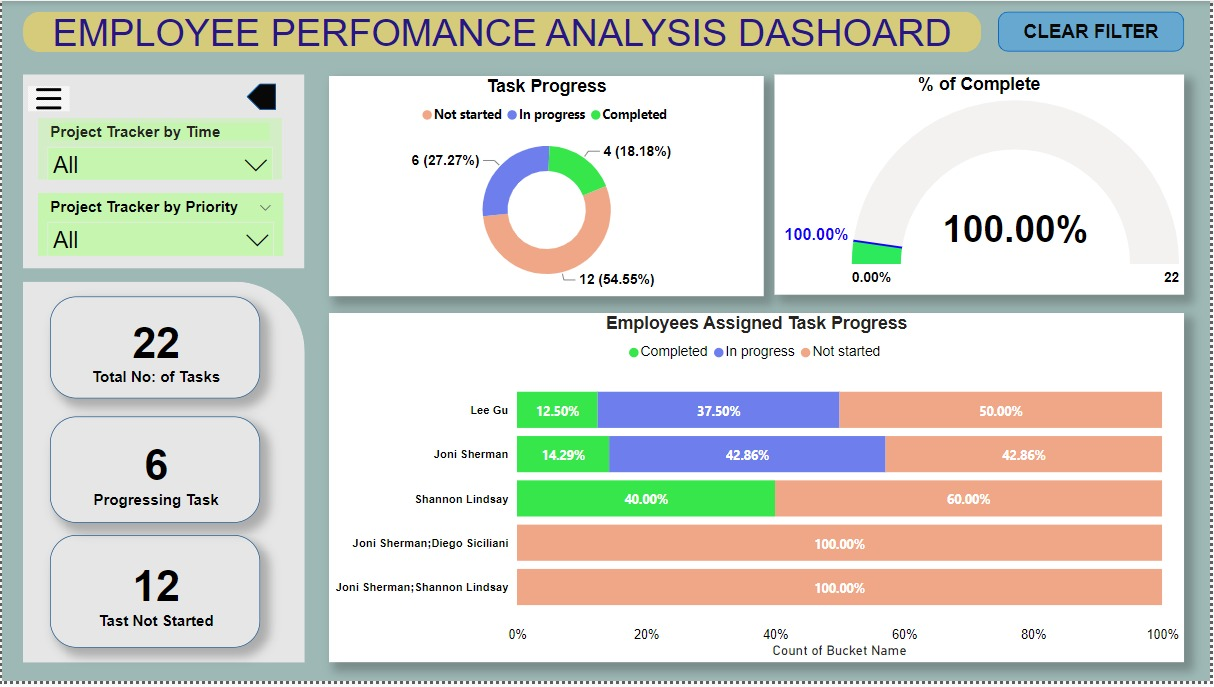

The page's visual inventory and layout, read from the dashboard file:
{"tool":"powerbi","page":{"name":"Page 1","canvas":[1280,720],"ordinal":0},"visuals":[{"type":"textbox","box":[22.3,81.1,298.8,205],"z":0,"group":"g1"},{"type":"shape","box":[22.3,11.1,1014,42.9],"z":1000},{"type":"donutChart","title":"Task Progress","fields":{"Category":["Tasks.Progress"],"Y":["CountNonNull(Tasks.Progress)"]},"box":[346.5,79.5,460.9,233.6],"z":2000},{"type":"hundredPercentStackedBarChart","title":"Employees Assigned Task Progress ","fields":{"Category":["Tasks.Assigned To"],"Y":["CountNonNull(Tasks.Bucket Name)"],"Series":["Tasks.Progress"]},"box":[346.5,330.6,906,370.3],"z":3000},{"type":"shape","box":[22.3,297.2,298.8,403.7],"z":4000},{"type":"card","title":"Task Progress","fields":{"Values":["Tasks.Total No: of Tasks"]},"box":[50.9,313.1,222.5,108.1],"z":5000},{"type":"card","title":"Task Progress","fields":{"Values":["Tasks.Progressing Task"]},"box":[50.9,440.3,222.5,112.8],"z":6000},{"type":"card","title":"Task Progress","fields":{"Values":["Tasks.Completed_task"]},"box":[50.9,565.8,222.5,119.2],"z":7000},{"type":"gauge","title":"% of Complete","fields":{"Y":["Tasks.Task Completed"],"MaxValue":["Tasks.Total No: of Tasks"],"TargetValue":["Tasks.Task Completed"]},"box":[818.5,77.9,433.9,233.6],"z":8000},{"type":"slicer","fields":{"Values":["Tasks.date.Variation.Date Hierarchy.Year","Tasks.date.Variation.Date Hierarchy.Month"]},"box":[37.8,127.1,259.1,65.2],"z":9000,"group":"g1"},{"type":"slicer","fields":{"Values":["Priority.Priority"]},"box":[37.8,205.9,260.7,66.8],"z":10000,"group":"g1"},{"type":"shape","box":[1055.4,11.1,197.1,42.9],"z":11000},{"type":"shape","box":[38.2,81.1,52.5,46.1],"z":11002,"group":"g1"},{"type":"group","id":"g1","title":"Group 1","box":[22.3,81.1,298.8,205],"z":11003}]}

Visuals, with their boxes in screenshot pixels (x1, y1, x2, y2), scaled from the page's 1280x720 canvas onto the 1214x687 screenshot:
textbox: <box>21,77,305,273</box>
shape: <box>21,11,983,52</box>
"Task Progress" donutChart: <box>329,76,766,299</box>
"Employees Assigned Task Progress " hundredPercentStackedBarChart: <box>329,315,1188,669</box>
shape: <box>21,284,305,669</box>
"Task Progress" card: <box>48,299,259,402</box>
"Task Progress" card: <box>48,420,259,528</box>
"Task Progress" card: <box>48,540,259,654</box>
"% of Complete" gauge: <box>776,74,1188,297</box>
slicer - Tasks.date.Variation.Date Hierarchy.Year x Tasks.date.Variation.Date Hierarchy.Month: <box>36,121,282,183</box>
slicer - Priority.Priority: <box>36,196,283,260</box>
shape: <box>1001,11,1188,52</box>
shape: <box>36,77,86,121</box>
"Group 1" group: <box>21,77,305,273</box>
